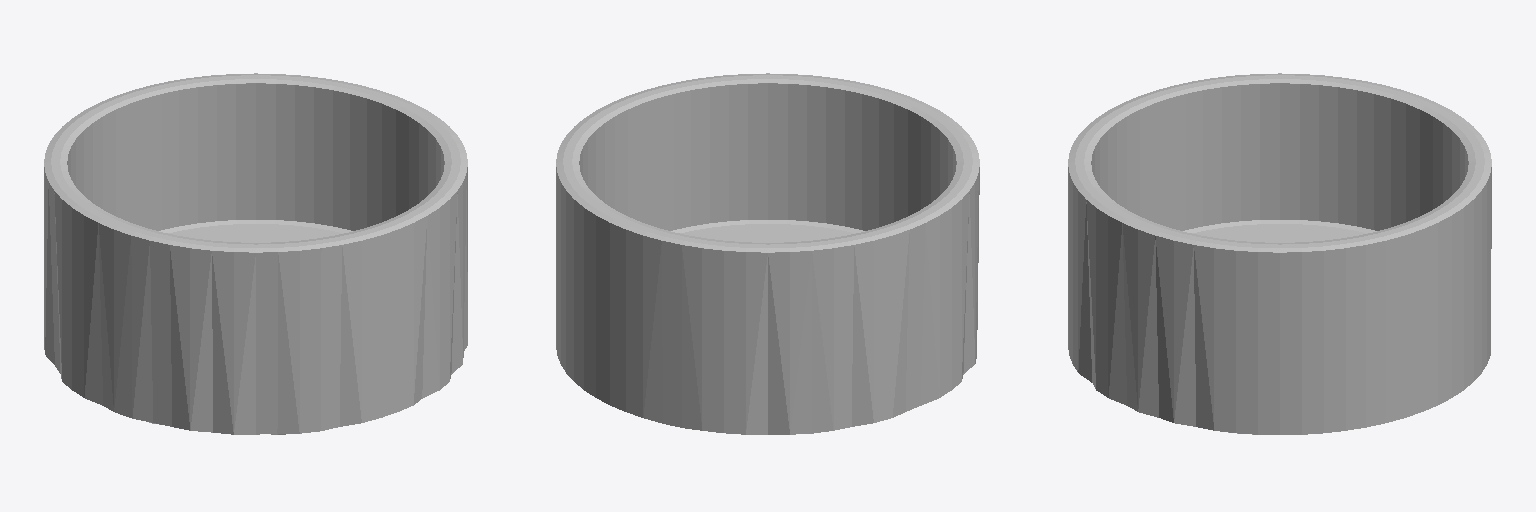
Rendered from bowl_livingroom.obj.
3 renders of one model, left to right at view 1: azimuth 30°, elevation 25°; view 2: azimuth 150°, elevation 25°; view 3: azimuth 270°, elevation 25°, orthographic.
Parts seen in each view (by area): view 1: Cylinder.004_Cylinder.006; view 2: Cylinder.004_Cylinder.006; view 3: Cylinder.004_Cylinder.006.
Boxes of the visible parts, <box> form: Cylinder.004_Cylinder.006: <box>44,73,467,434</box>; Cylinder.004_Cylinder.006: <box>556,73,979,434</box>; Cylinder.004_Cylinder.006: <box>1068,73,1491,434</box>.
Size of the model in its own units: 0.3 by 0.1471 by 0.3.